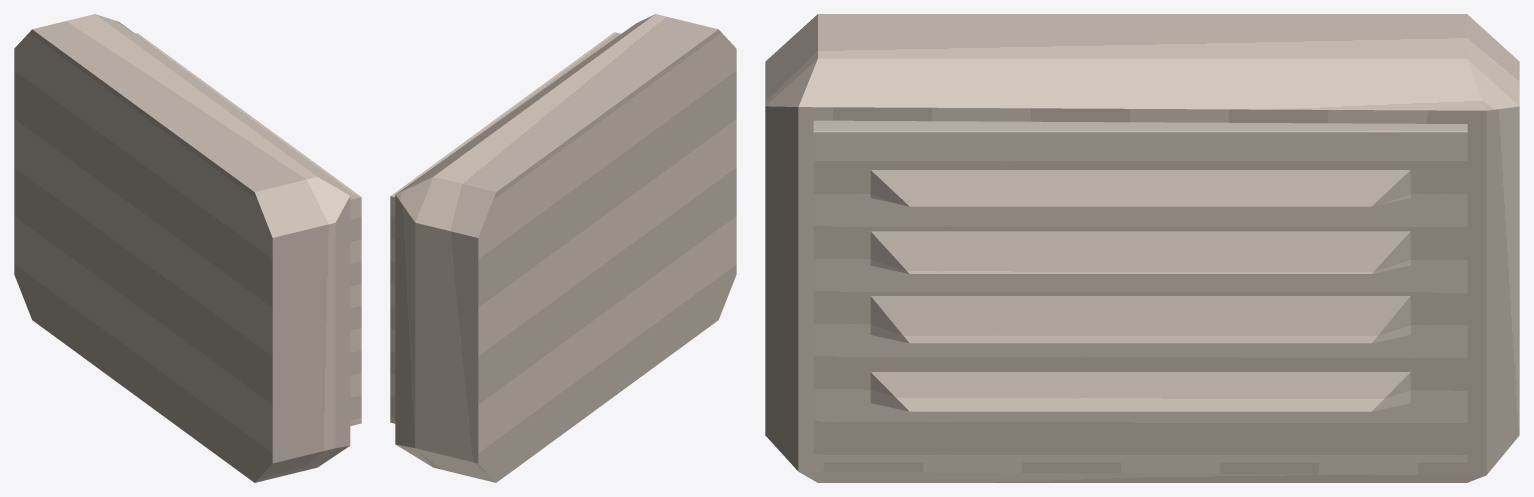
The model's file is Int_Vent.fbx.
3 renders of one model, left to right at view 1: azimuth 30°, elevation 25°; view 2: azimuth 150°, elevation 25°; view 3: azimuth 270°, elevation 25°, orthographic. The views are drawn at different scales.
Parts seen in each view (by area): view 1: Vent; view 2: Vent; view 3: Vent.
Part boxes in pixels (left/top/right/bottom): Vent: left=14, top=14, right=361, bottom=482; Vent: left=390, top=14, right=736, bottom=482; Vent: left=765, top=14, right=1519, bottom=482.
Bounding box in the file's own units: 0.3528 × 0.833 × 1.34.
